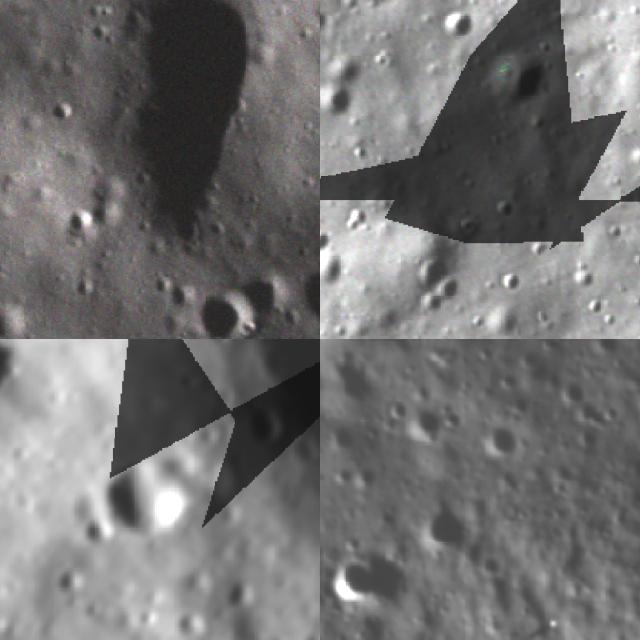crater: (0, 0, 320, 273), (83, 432, 207, 561), (170, 252, 275, 339), (322, 538, 411, 619), (227, 244, 310, 327), (401, 242, 472, 324), (482, 38, 553, 116), (228, 388, 299, 465), (412, 492, 478, 559), (320, 353, 385, 414), (282, 244, 320, 339), (392, 399, 458, 453), (0, 270, 50, 339), (42, 553, 98, 607), (474, 414, 532, 466), (508, 344, 564, 393), (165, 598, 221, 640), (214, 568, 264, 615), (433, 6, 482, 49), (323, 49, 372, 92), (324, 0, 425, 20), (466, 544, 510, 584), (320, 81, 360, 124), (320, 247, 352, 293), (582, 339, 623, 364), (306, 541, 320, 594), (320, 223, 332, 260), (320, 9, 331, 41)
